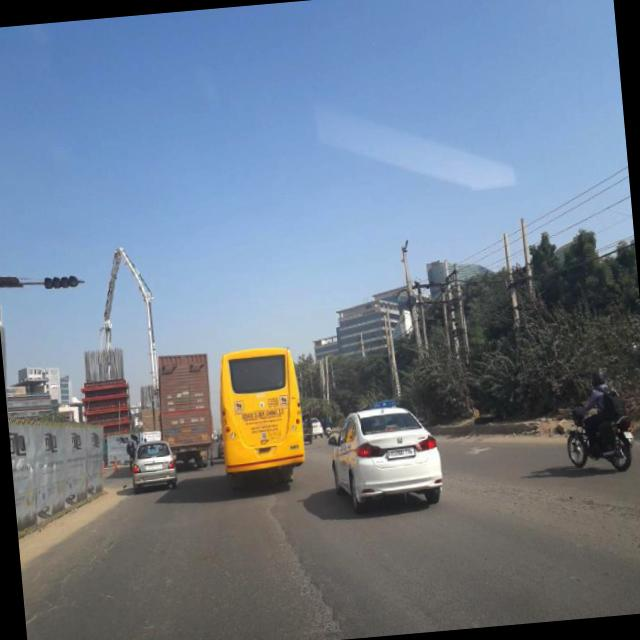crack: (28, 534, 134, 626)
